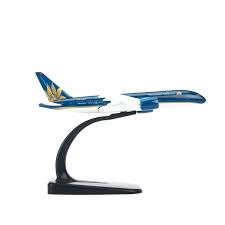maybay_dansu: (27, 64, 207, 116)
